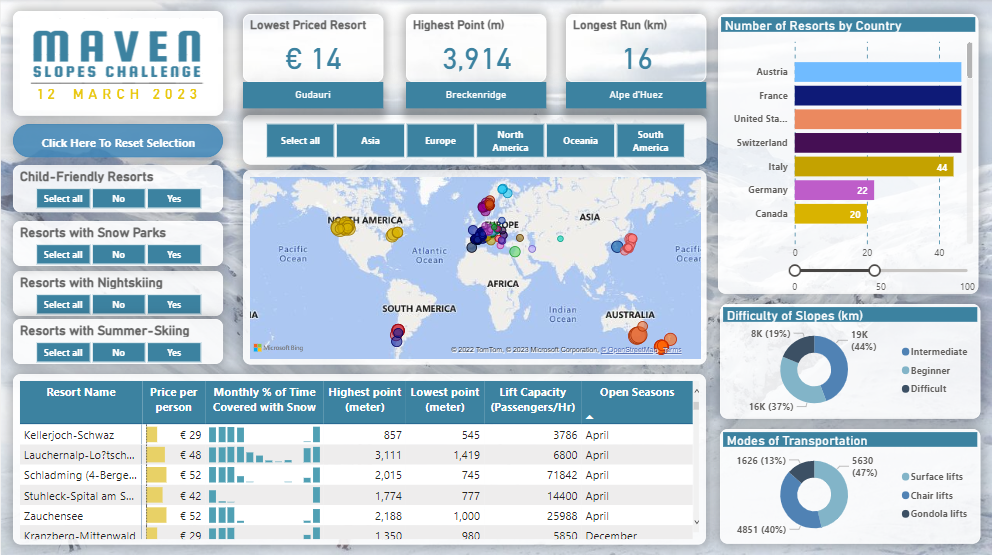

What the dashboard file says about the page in this screenshot:
{"tool":"powerbi","page":{"name":"Dashboard_Ski_Resorts","canvas":[1280,720],"ordinal":0},"visuals":[{"type":"pivotTable","fields":{"Rows":["resorts.Resort"],"Values":["resorts.Price Calculated","SparklineData(snow.Average of Snow_[snow.Month])","Max(resorts.Highest point)","Min(resorts.Lowest point)","Max(resorts.Lift capacity)","Min(resorts.Season)"]},"box":[15.6,483.3,894.3,219.7],"z":0},{"type":"map","fields":{"Y":["resorts.Latitude"],"X":["resorts.Longitude"],"Series":["resorts.Country"],"Size":["resorts.Price Calculated"]},"box":[311.8,221.1,598.1,250.9],"z":1000},{"type":"slicer","fields":{"Values":["resorts.Continent"]},"box":[311.8,150.2,598.1,63.8],"z":2000},{"type":"barChart","title":"Number of Resorts by Country","fields":{"Y":["CountNonNull(resorts.ID)"],"Category":["resorts.Country"],"Series":["resorts.Country"]},"box":[925.2,19.4,336.8,360],"z":3000},{"type":"donutChart","title":"Difficulty of Slopes (km)","fields":{"Y":["Sum(resorts.Intermediate slopes)","Sum(resorts.Beginner slopes)","Sum(resorts.Difficult slopes)"]},"box":[927.4,393.1,335.5,148.3],"z":4000},{"type":"slicer","title":"Resorts with Nightskiing","fields":{"Values":["resorts.Nightskiing"]},"box":[15.6,350.5,270.7,57.6],"z":5000},{"type":"donutChart","title":"Modes of Transportation","fields":{"Y":["Sum(resorts.Surface lifts)","Sum(resorts.Chair lifts)","Sum(resorts.Gondola lifts)"]},"box":[927.4,554.4,335.5,148.3],"z":6000},{"type":"slicer","title":"Child-Friendly Resorts","fields":{"Values":["resorts.Child friendly"]},"box":[15.6,214,270.7,60.9],"z":7000},{"type":"slicer","title":"Resorts with Snow Parks","fields":{"Values":["resorts.Snowparks"]},"box":[15.6,285.8,270.7,57.6],"z":8000},{"type":"slicer","title":"Resorts with Summer-Skiing","fields":{"Values":["resorts.Summer skiing"]},"box":[15.6,413.4,270.7,57.6],"z":9000},{"type":"card","title":"Highest Point (m)","fields":{"Values":["Max(resorts.Highest point)"]},"box":[523,19.8,181.4,87.9],"z":10000},{"type":"card","fields":{"Values":["Min(resorts.Resort)"]},"box":[523,107.7,181.4,34],"z":11000},{"type":"card","title":"Lowest Priced Resort","fields":{"Values":["resorts.Price Calculated"]},"box":[311.8,19.8,181.4,87.9],"z":12000},{"type":"card","fields":{"Values":["Min(resorts.Resort)"]},"box":[311.8,107.7,181.4,34],"z":13000},{"type":"card","title":"Longest Run (km)","fields":{"Values":["resorts.Longest Run Calculated"]},"box":[728.5,19.8,181.4,87.9],"z":14000},{"type":"card","fields":{"Values":["Min(resorts.Resort)"]},"box":[728.5,107.7,181.4,34],"z":15000},{"type":"actionButton","box":[15.6,161.6,270.7,42.5],"z":16001},{"type":"image","box":[15.6,15.6,270.7,134.6],"z":16002}]}

Visuals, with their boxes in screenshot pixels (x1, y1, x2, y2), scaled from the page's 1280x720 canvas onto the 992x555 screenshot:
pivotTable - resorts.Resort x resorts.Price Calculated: bbox=[12, 373, 705, 542]
map - resorts.Latitude x resorts.Longitude: bbox=[242, 170, 705, 364]
slicer - resorts.Continent: bbox=[242, 116, 705, 165]
"Number of Resorts by Country" barChart: bbox=[717, 15, 978, 292]
"Difficulty of Slopes (km)" donutChart: bbox=[719, 303, 979, 417]
"Resorts with Nightskiing" slicer: bbox=[12, 270, 222, 315]
"Modes of Transportation" donutChart: bbox=[719, 427, 979, 542]
"Child-Friendly Resorts" slicer: bbox=[12, 165, 222, 212]
"Resorts with Snow Parks" slicer: bbox=[12, 220, 222, 265]
"Resorts with Summer-Skiing" slicer: bbox=[12, 319, 222, 363]
"Highest Point (m)" card: bbox=[405, 15, 546, 83]
card - Min(resorts.Resort): bbox=[405, 83, 546, 109]
"Lowest Priced Resort" card: bbox=[242, 15, 382, 83]
card - Min(resorts.Resort): bbox=[242, 83, 382, 109]
"Longest Run (km)" card: bbox=[565, 15, 705, 83]
card - Min(resorts.Resort): bbox=[565, 83, 705, 109]
actionButton: bbox=[12, 125, 222, 157]
image: bbox=[12, 12, 222, 116]
